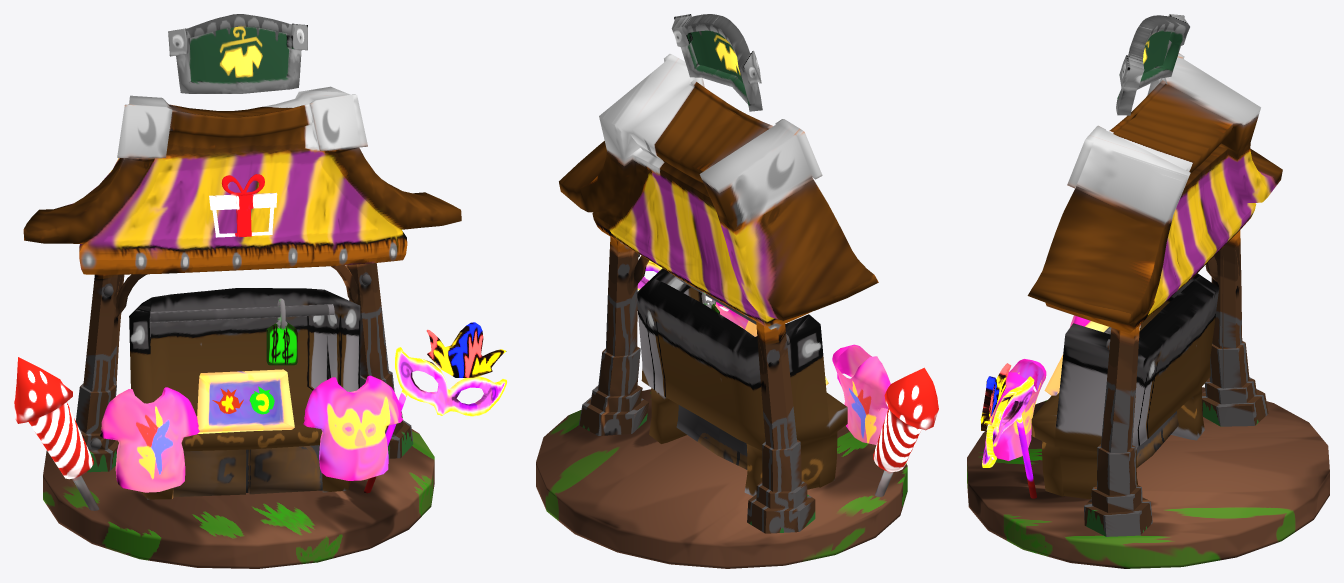
The model's file is Empty_Group_Shop_Stand_Lvl_02.fbx.
The picture shows the model from 3 angles, left to right: view 1: azimuth 30°, elevation 25°; view 2: azimuth 150°, elevation 25°; view 3: azimuth 270°, elevation 25°; orthographic projection. The views are drawn at different scales.
Parts seen in each view (by area): view 1: Building_Shop_Stand_Lvl02, Platform_Shop_Stand_Lvl02, TableStand_Shop_Stand_Lvl02, Sign_Shop_Stand_Lvl02, Merch_Tshirts_Shop_Stand_Lvl02, Merch_Tshirts_Shop_Stand_Lvl02.002, TableStand_Shop_Stand_Lvl02.001, Mask&FireWorks_Shop_Stand_Lvl02, Collectibles_Shop_Stand_Lvl02, Mask&FireWorks_Shop_Stand_Lvl02.001, Money_Shop_Stand_Lvl02; view 2: Building_Shop_Stand_Lvl02, Platform_Shop_Stand_Lvl02, TableStand_Shop_Stand_Lvl02, Sign_Shop_Stand_Lvl02, Mask&FireWorks_Shop_Stand_Lvl02.001, Merch_Tshirts_Shop_Stand_Lvl02.002, TableStand_Shop_Stand_Lvl02.001; view 3: Building_Shop_Stand_Lvl02, Platform_Shop_Stand_Lvl02, TableStand_Shop_Stand_Lvl02, Sign_Shop_Stand_Lvl02, Mask&FireWorks_Shop_Stand_Lvl02, Merch_Tshirts_Shop_Stand_Lvl02, TableStand_Shop_Stand_Lvl02.001, Collectibles_Shop_Stand_Lvl02.
Part boxes in pixels (<box>): Building_Shop_Stand_Lvl02: <box>23,86,461,472</box>; Platform_Shop_Stand_Lvl02: <box>43,429,434,568</box>; TableStand_Shop_Stand_Lvl02: <box>129,288,360,499</box>; Sign_Shop_Stand_Lvl02: <box>168,14,307,93</box>; Merch_Tshirts_Shop_Stand_Lvl02: <box>303,375,402,480</box>; Merch_Tshirts_Shop_Stand_Lvl02.002: <box>100,387,199,492</box>; TableStand_Shop_Stand_Lvl02.001: <box>173,445,322,497</box>; Mask&FireWorks_Shop_Stand_Lvl02: <box>363,322,507,493</box>; Collectibles_Shop_Stand_Lvl02: <box>197,369,294,433</box>; Mask&FireWorks_Shop_Stand_Lvl02.001: <box>14,357,99,510</box>; Money_Shop_Stand_Lvl02: <box>266,298,297,365</box>; Building_Shop_Stand_Lvl02: <box>559,54,878,533</box>; Platform_Shop_Stand_Lvl02: <box>536,389,907,568</box>; TableStand_Shop_Stand_Lvl02: <box>636,268,847,496</box>; Sign_Shop_Stand_Lvl02: <box>671,14,762,111</box>; Mask&FireWorks_Shop_Stand_Lvl02.001: <box>873,367,938,496</box>; Merch_Tshirts_Shop_Stand_Lvl02.002: <box>832,344,890,444</box>; TableStand_Shop_Stand_Lvl02.001: <box>676,405,747,469</box>; Building_Shop_Stand_Lvl02: <box>1027,53,1282,536</box>; Platform_Shop_Stand_Lvl02: <box>967,387,1329,568</box>; TableStand_Shop_Stand_Lvl02: <box>1031,273,1219,499</box>; Sign_Shop_Stand_Lvl02: <box>1116,14,1189,115</box>; Mask&FireWorks_Shop_Stand_Lvl02: <box>980,363,1036,498</box>; Merch_Tshirts_Shop_Stand_Lvl02: <box>989,359,1046,460</box>; TableStand_Shop_Stand_Lvl02.001: <box>1136,411,1178,467</box>; Collectibles_Shop_Stand_Lvl02: <box>1044,321,1108,395</box>.
Size of the model in its own units: 1.26 by 1.41 by 0.9924.
Materials: 1 (1 with a texture image).
